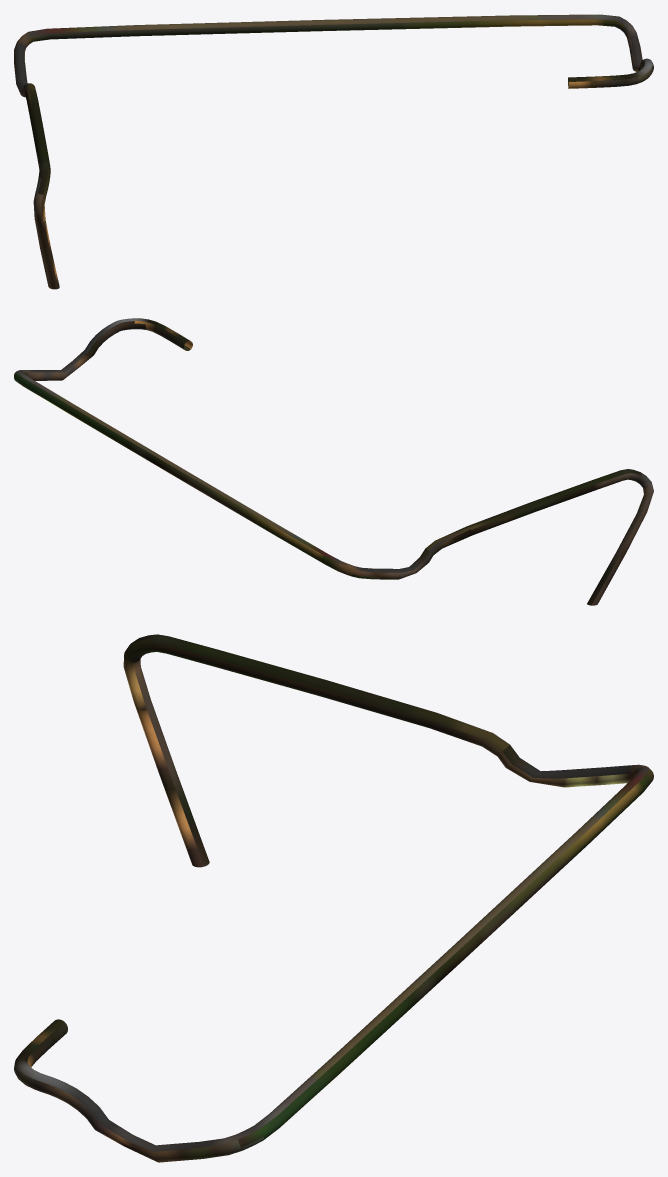
File: gates003.fbx
3 views of the same model, one above another, from view 1: azimuth 30°, elevation 25°; view 2: azimuth 150°, elevation 25°; view 3: azimuth 270°, elevation 25° (orthographic). The views are drawn at different scales.
Parts seen in each view (by area): view 1: gates003; view 2: gates003; view 3: gates003.
Part boxes in pixels (<box>): gates003: <box>14,14,653,289</box>; gates003: <box>14,318,653,605</box>; gates003: <box>14,634,653,1162</box>.
Bounding box in the file's own units: 7 × 1.45 × 3.97.
1 material, 1 textured.
